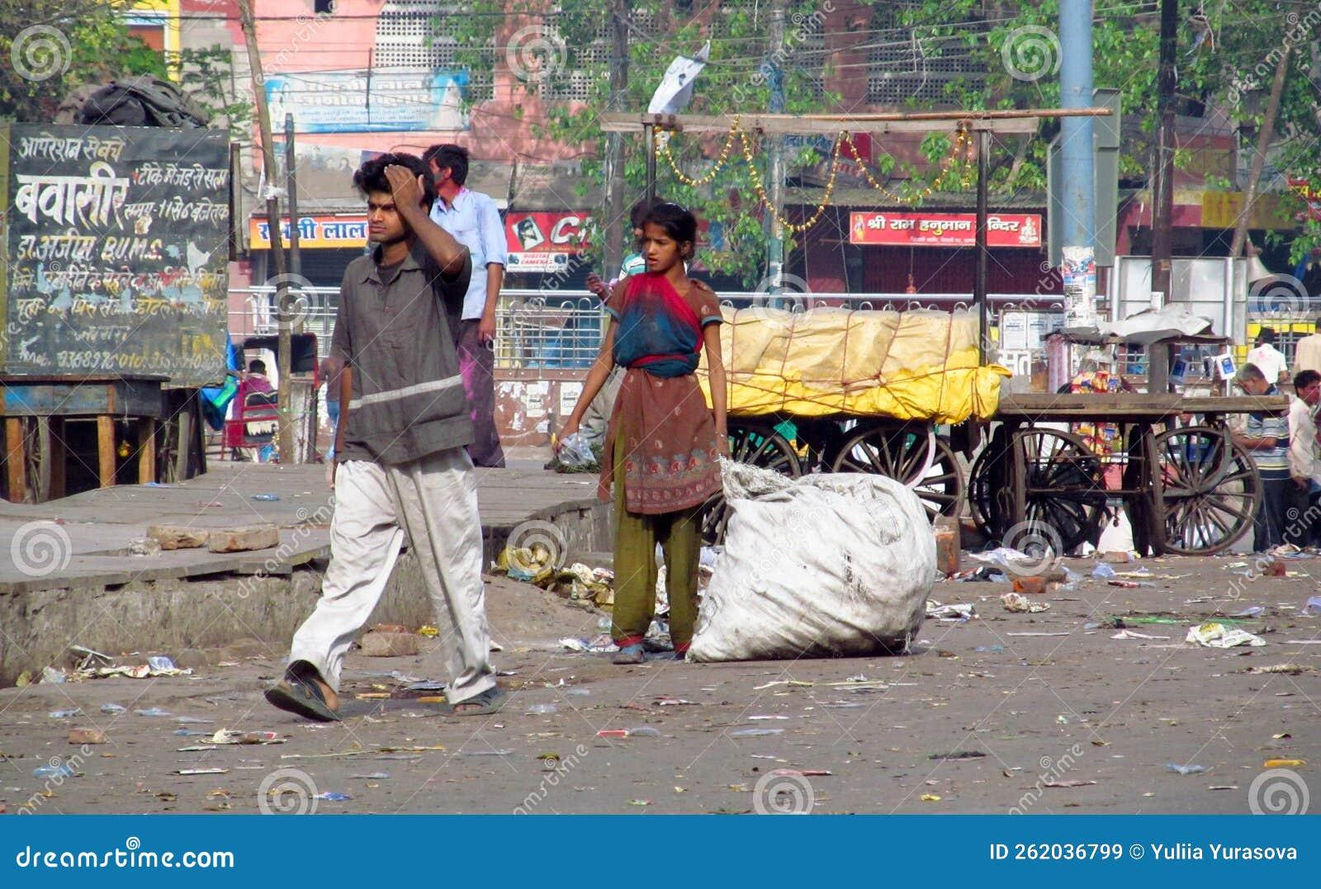pavement: (0, 462, 330, 685), (480, 469, 609, 558)
road: (0, 555, 1321, 818)
trash: (258, 0, 1321, 113)
